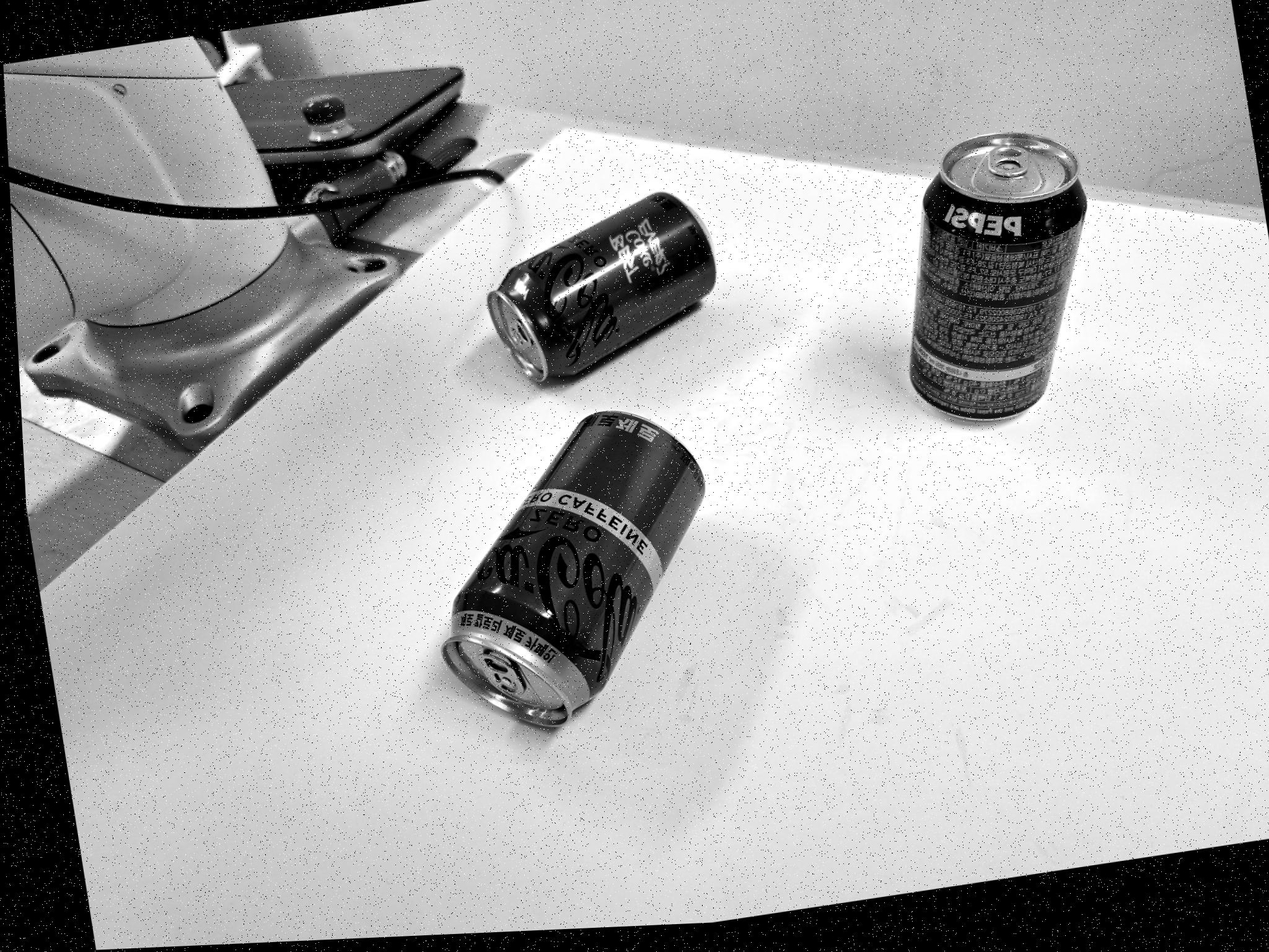can_coke_decaf: (443, 410, 705, 725)
can_coke_zero: (487, 192, 716, 381)
can_pepsi: (910, 133, 1086, 419)
